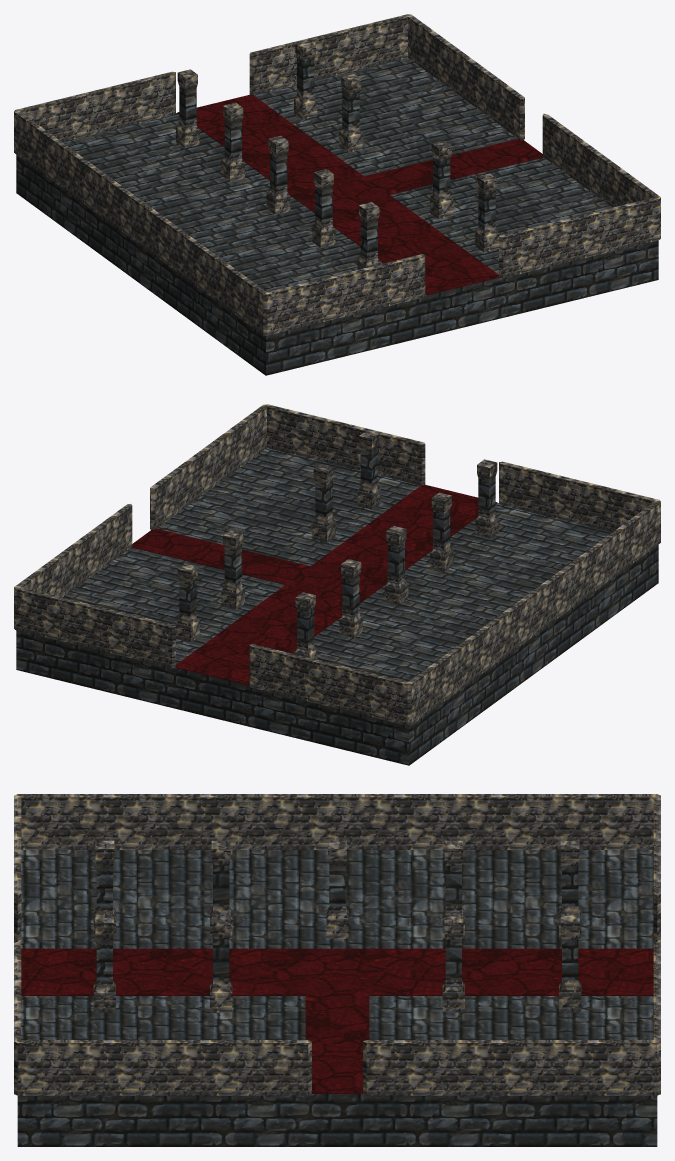
The model's file is room-3door.glb.
3 renders of one model, top to bottom at view 1: azimuth 30°, elevation 25°; view 2: azimuth 150°, elevation 25°; view 3: azimuth 270°, elevation 25°, orthographic. The views are drawn at different scales.
Parts seen in each view (by area): view 1: floor (×35), wall (×29), porch_floorCenter (×2), column (×9), wall_corner (×4); view 2: floor (×35), wall (×29), porch_floorCenter (×2), column (×9), wall_corner (×4); view 3: floor (×33), wall (×19), porch_floorCenter (×2), column (×9), wall_corner (×4).
Boxes of the visible parts, left/top/right/bottom form: floor (×35): left=16, top=58, right=658, bottom=375; wall (×29): left=36, top=24, right=637, bottom=325; porch_floorCenter (×2): left=177, top=94, right=543, bottom=295; column (×9): left=176, top=40, right=498, bottom=269; wall_corner (×4): left=14, top=14, right=660, bottom=335; floor (×35): left=16, top=448, right=658, bottom=765; wall (×29): left=36, top=414, right=638, bottom=715; porch_floorCenter (×2): left=131, top=484, right=497, bottom=685; column (×9): left=176, top=430, right=498, bottom=659; wall_corner (×4): left=14, top=404, right=660, bottom=725; floor (×33): left=17, top=850, right=657, bottom=1146; wall (×19): left=14, top=794, right=660, bottom=1095; porch_floorCenter (×2): left=21, top=948, right=653, bottom=1093; column (×9): left=93, top=840, right=581, bottom=1012; wall_corner (×4): left=14, top=794, right=660, bottom=1095.
Bounding box in the file's own units: 10.13 × 2.7 × 11.13.
Materials: 131 (131 with a texture image).
